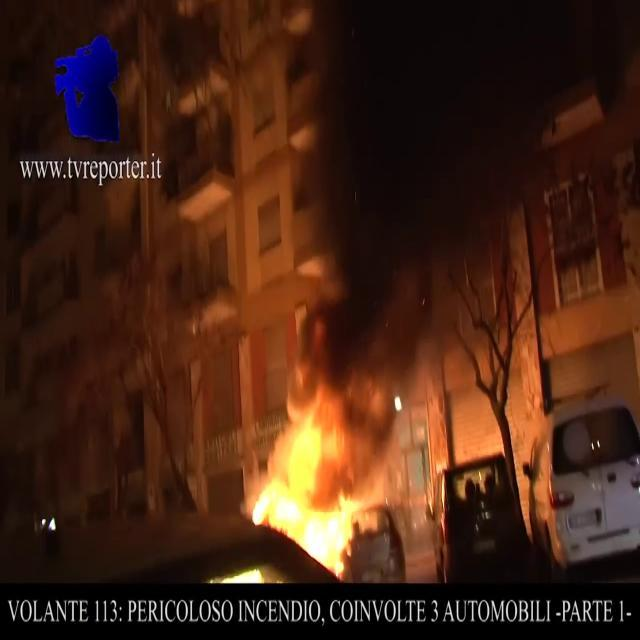Fire: (243, 394, 369, 578)
Smoke: (270, 2, 544, 386)
